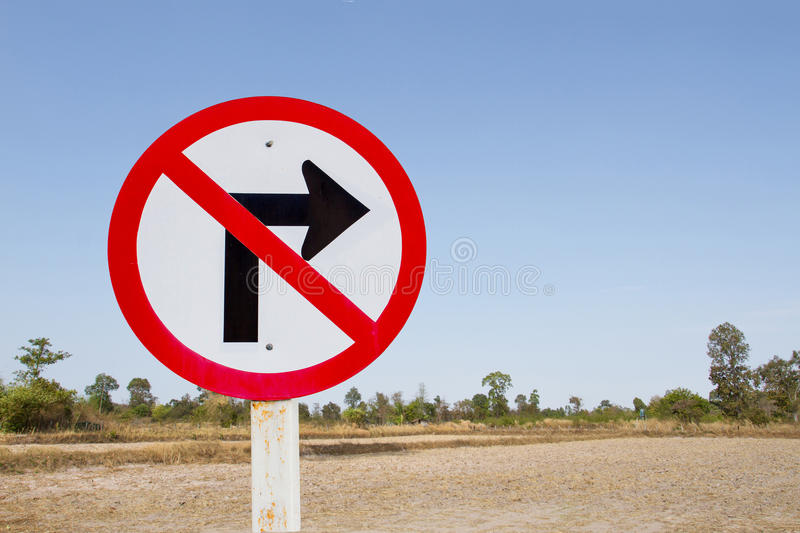No_right_turn: (107, 95, 427, 399)
